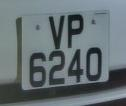0: (84, 45, 105, 84)
2: (46, 49, 69, 88)
4: (66, 47, 86, 86)
6: (26, 49, 48, 90)
P: (65, 10, 87, 50)
V: (45, 12, 67, 51)
